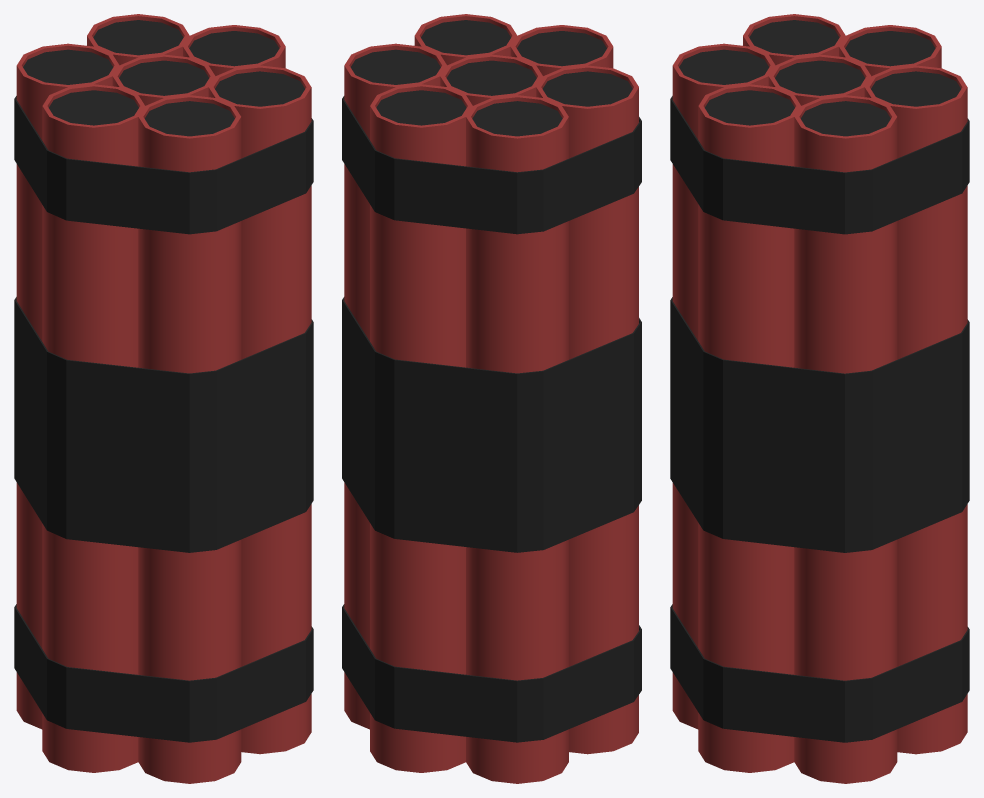
File: Dynamite.fbx
The picture shows the model from 3 angles, left to right: view 1: azimuth 30°, elevation 25°; view 2: azimuth 150°, elevation 25°; view 3: azimuth 270°, elevation 25°; orthographic projection.
Visible parts, largest first — view 1: Dynamite_With_Line; view 2: Dynamite_With_Line; view 3: Dynamite_With_Line.
Part boxes in pixels (x1,y1,x2,y2): Dynamite_With_Line: (14, 14, 313, 783); Dynamite_With_Line: (342, 14, 641, 783); Dynamite_With_Line: (670, 14, 969, 783).
Size of the model in its own units: 28.47 by 67.68 by 28.42.
